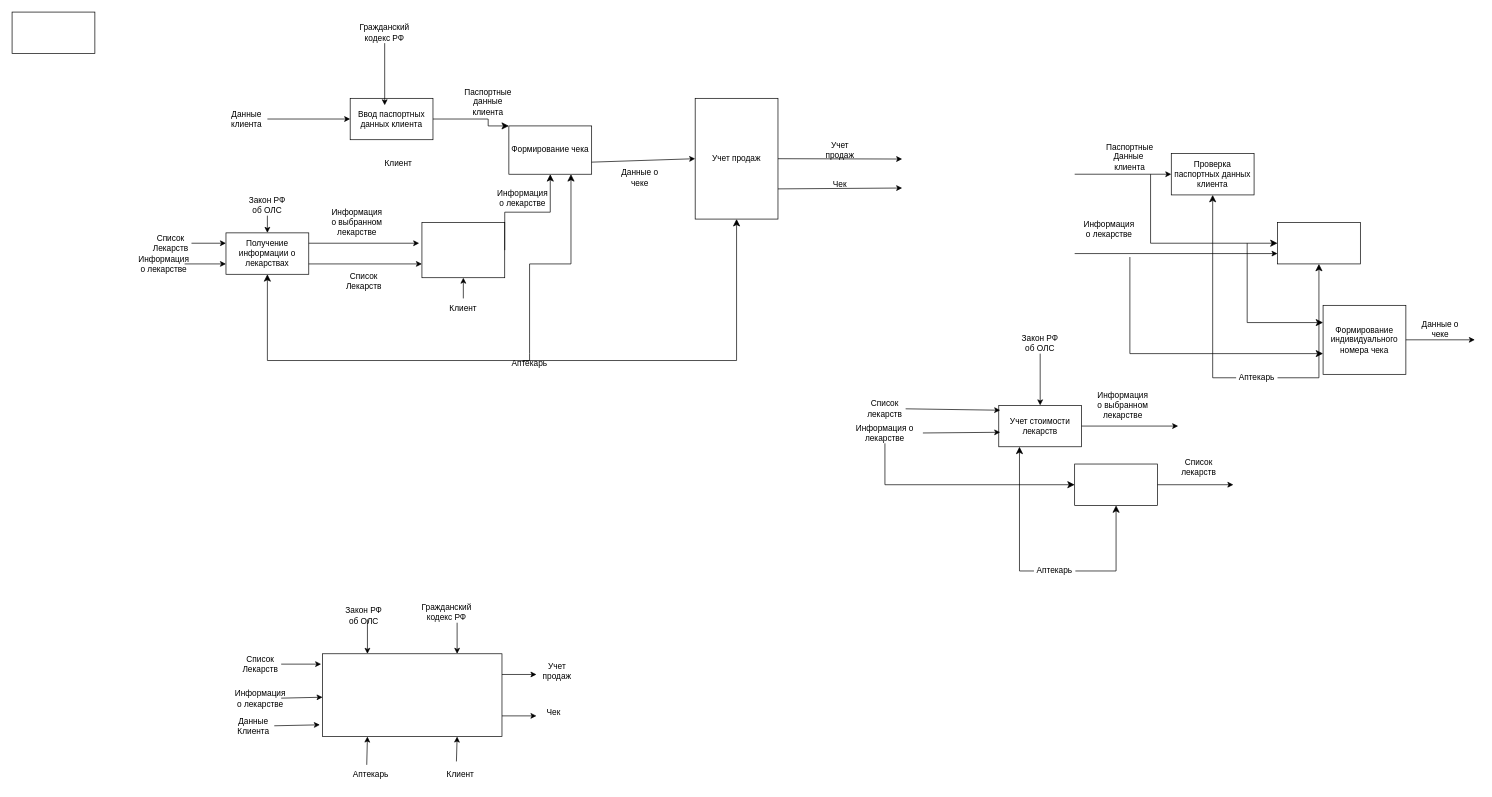
Some shapes in this 1492 by 797 pixel diagram are drawn without their labels. The centre of each missing label's shape, as x and y in pixels:
Ввод информации о выбранном лекарстве: [463,250]
Проверка наличия лекарств: [1115,484]
ПРОДАЖА ЛЕКАРСТВ: [412,695]
Учет выбранных лекарств: [1318,243]
